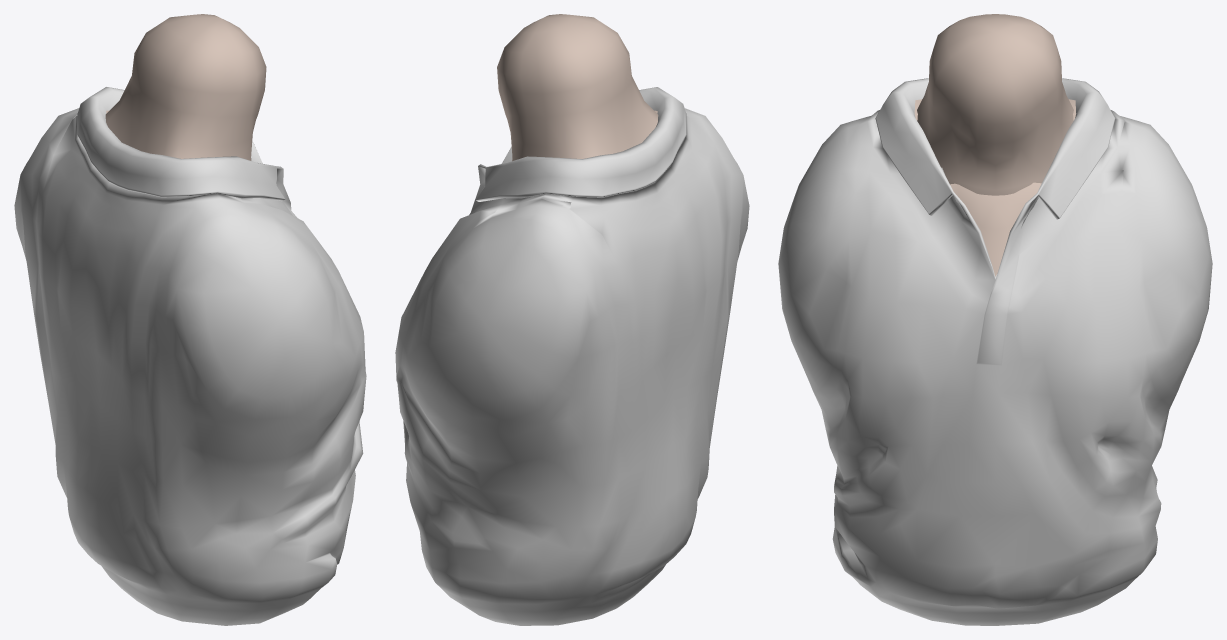
The model's file is TorsoLinkFull.dae.
The picture shows the model from 3 angles, left to right: view 1: azimuth 30°, elevation 25°; view 2: azimuth 150°, elevation 25°; view 3: azimuth 270°, elevation 25°; orthographic projection.
Visible parts, largest first — view 1: ShapeIndexedFaceSet, ShapeIndexedFaceSet_002; view 2: ShapeIndexedFaceSet, ShapeIndexedFaceSet_002; view 3: ShapeIndexedFaceSet, ShapeIndexedFaceSet_002, ShapeIndexedFaceSet_001.
Boxes of the visible parts, box(x1,y1,x2,y2) form: ShapeIndexedFaceSet: box(14, 87, 366, 625); ShapeIndexedFaceSet_002: box(105, 14, 266, 160); ShapeIndexedFaceSet: box(395, 87, 749, 625); ShapeIndexedFaceSet_002: box(497, 14, 658, 161); ShapeIndexedFaceSet: box(778, 78, 1212, 625); ShapeIndexedFaceSet_002: box(917, 14, 1073, 195); ShapeIndexedFaceSet_001: box(914, 99, 1076, 276).
Bounding box in the file's own units: 0.2567 × 0.3897 × 0.5761.
